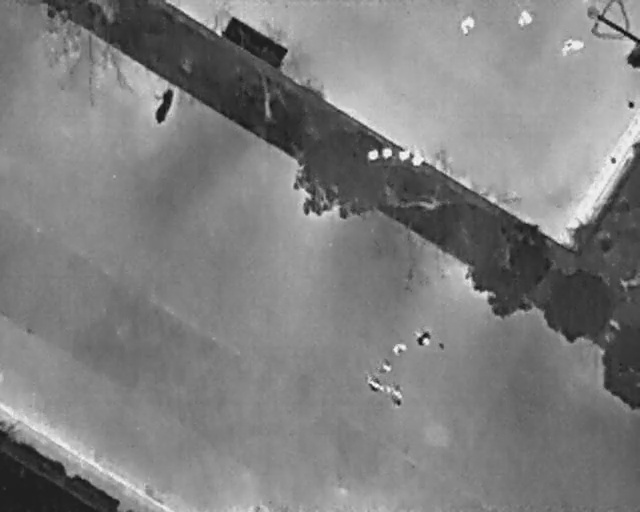Bicycle: (143, 82, 179, 128)
Person: (358, 368, 388, 396), (562, 36, 586, 57), (389, 382, 405, 410), (516, 9, 533, 29), (415, 329, 433, 347), (460, 16, 475, 35), (380, 357, 394, 375), (391, 343, 407, 358)
